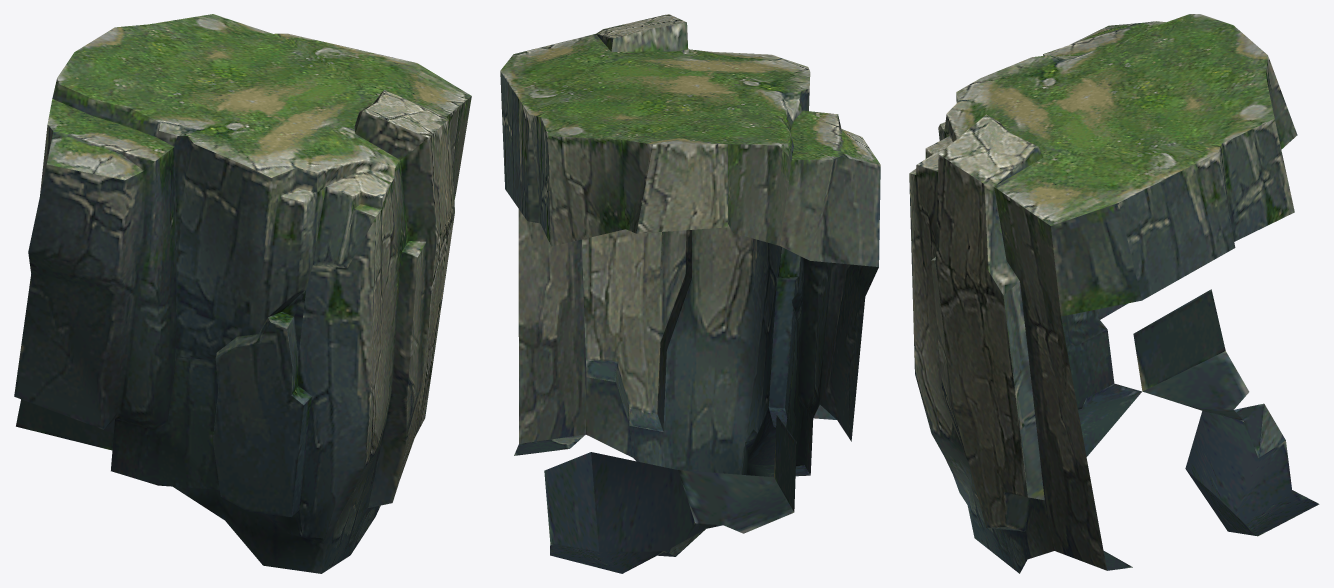
File: 4006_Item_shitou_3.FBX
3 views of the same model, side by side, from view 1: azimuth 30°, elevation 25°; view 2: azimuth 150°, elevation 25°; view 3: azimuth 270°, elevation 25° (orthographic).
Visible parts, largest first — view 1: 4006_Item_shitou_3; view 2: 4006_Item_shitou_3; view 3: 4006_Item_shitou_3.
Part boxes in pixels (x1,y1,x2,y2): 4006_Item_shitou_3: (14,14,471,573); 4006_Item_shitou_3: (500,14,880,573); 4006_Item_shitou_3: (909,14,1319,573).
Size of the model in its own units: 1098 by 965 by 1208.
